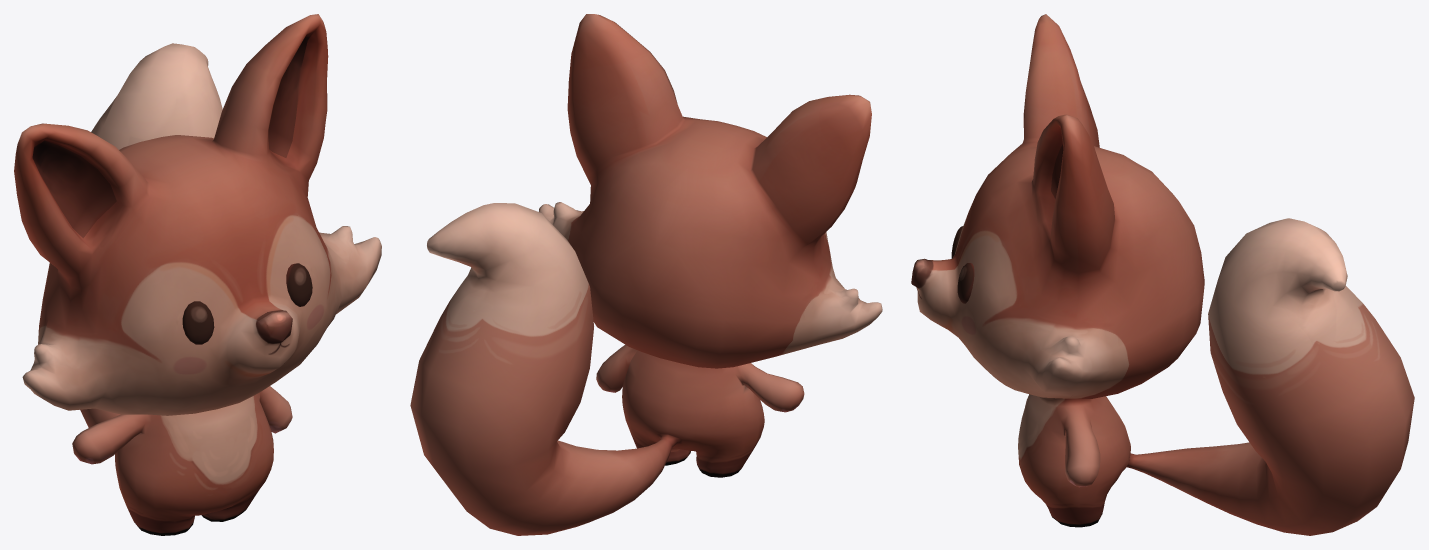
The model's file is Entamar_Mesh_fox_pose.glb.
The picture shows the model from 3 angles, left to right: view 1: azimuth 30°, elevation 25°; view 2: azimuth 150°, elevation 25°; view 3: azimuth 270°, elevation 25°; orthographic projection. The views are drawn at different scales.
Visible parts, largest first — view 1: Mesh_fox_pose; view 2: Mesh_fox_pose; view 3: Mesh_fox_pose.
Boxes of the visible parts, left/top/right/bottom form: Mesh_fox_pose: left=14, top=14, right=381, bottom=535; Mesh_fox_pose: left=410, top=14, right=882, bottom=535; Mesh_fox_pose: left=911, top=14, right=1414, bottom=535.
Size of the model in its own units: 0.6541 by 0.8066 by 0.8308.
1 material, 1 textured.
